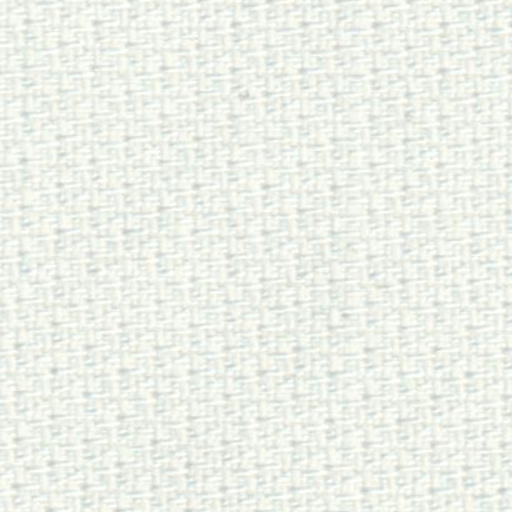TuoSha: (315, 15, 388, 507)
